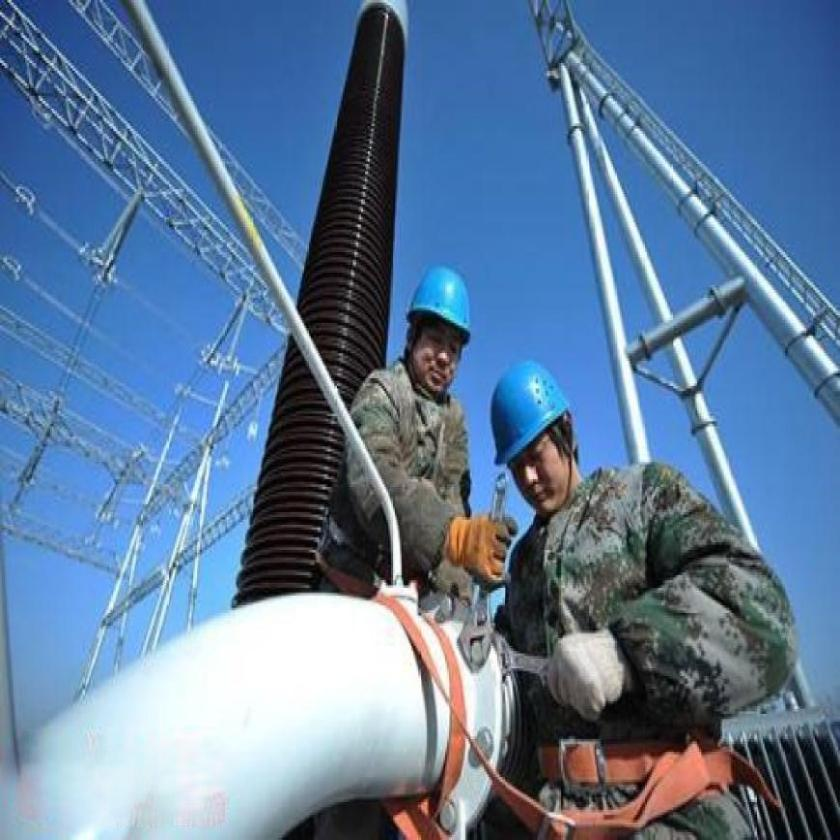Con_casco: (490, 351, 575, 522), (404, 261, 474, 413)
